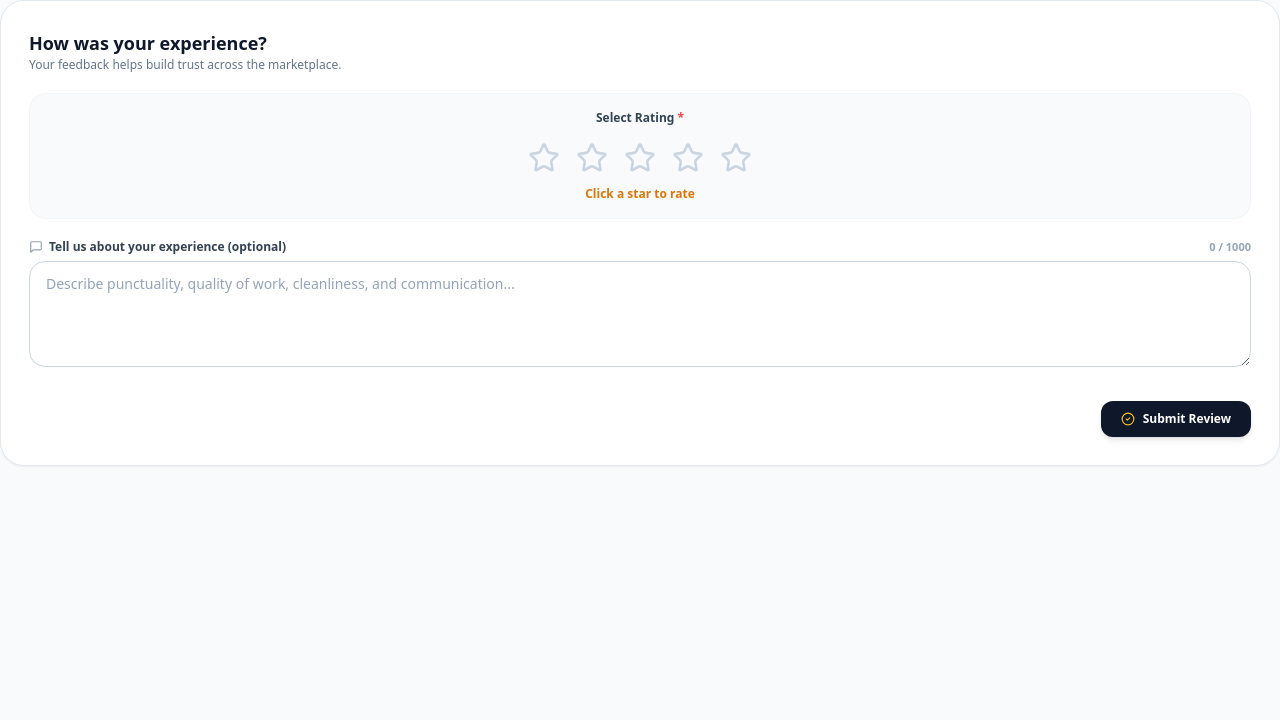
Test: Customer Reviews & Reputation Web Experience (Phase 8D-2 Audit Suite) › ReviewForm Component › 4. rating is required and shows client validation error when submitted with 0 stars
Click the button "Submit Review" at (1176, 419), box [1101,401,1251,437]
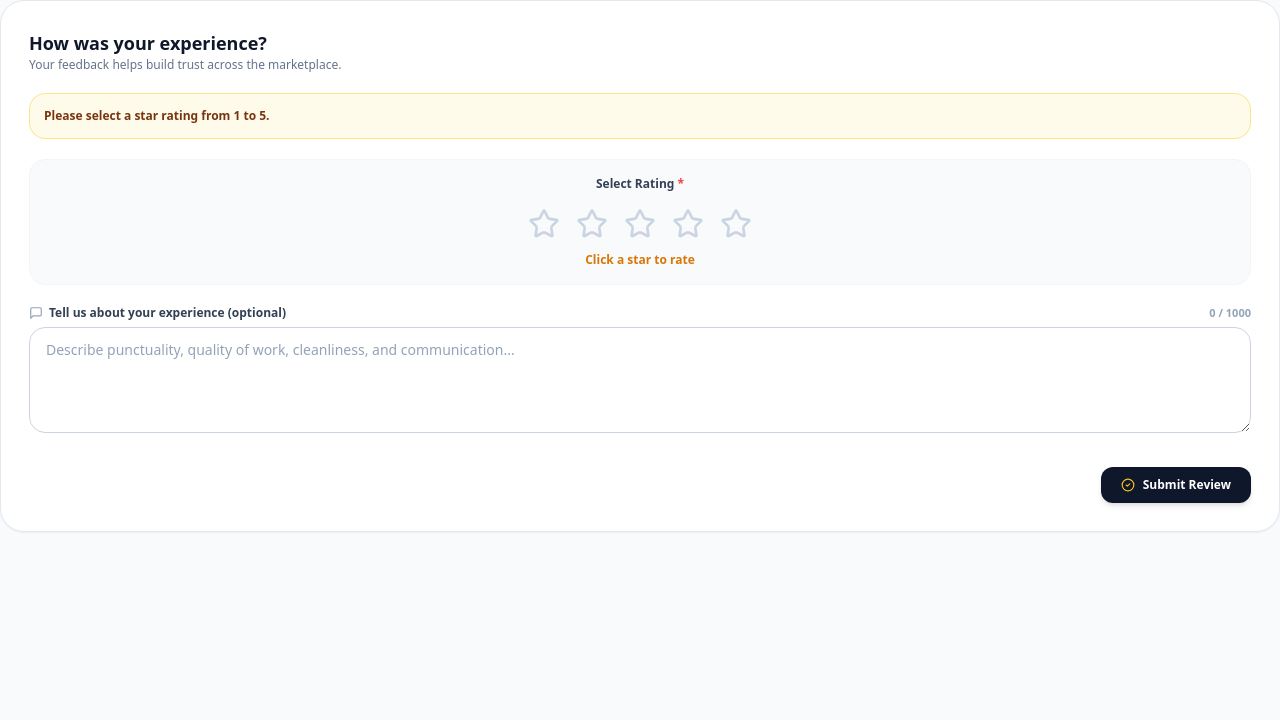
Now the text "Please select a star rating from 1 to 5." is shown, box [29,93,1251,139]
